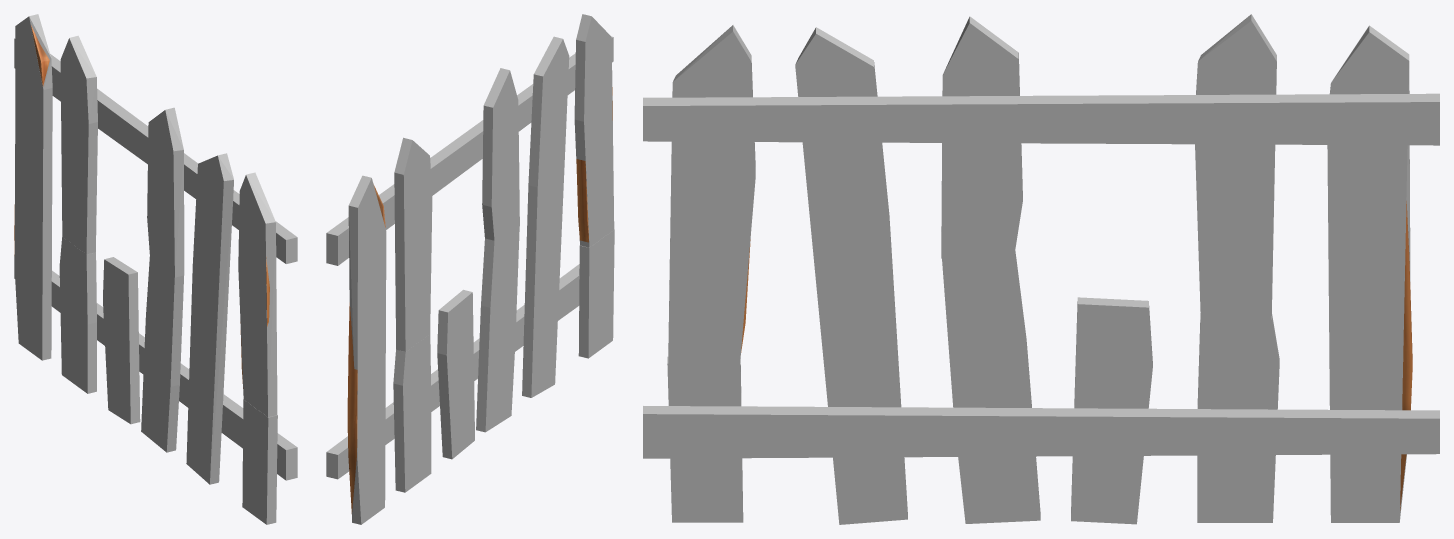
File: SM_Fences02_3.fbx
3 views of the same model, side by side, from view 1: azimuth 30°, elevation 25°; view 2: azimuth 150°, elevation 25°; view 3: azimuth 270°, elevation 25° (orthographic). The views are drawn at different scales.
Parts seen in each view (by area): view 1: SM_Fences02_3_ConvexHulls, SM_Fences02_3; view 2: SM_Fences02_3_ConvexHulls, SM_Fences02_3; view 3: SM_Fences02_3_ConvexHulls, SM_Fences02_3.
Part boxes in pixels (bbox=[...]): SM_Fences02_3_ConvexHulls: bbox=[14, 14, 297, 524]; SM_Fences02_3: bbox=[14, 25, 269, 388]; SM_Fences02_3_ConvexHulls: bbox=[326, 14, 614, 524]; SM_Fences02_3: bbox=[347, 87, 612, 513]; SM_Fences02_3_ConvexHulls: bbox=[643, 14, 1439, 524]; SM_Fences02_3: bbox=[741, 201, 1412, 510].
Bounding box in the file's own units: 7.91 × 177 × 124.
2 materials, 1 textured.
